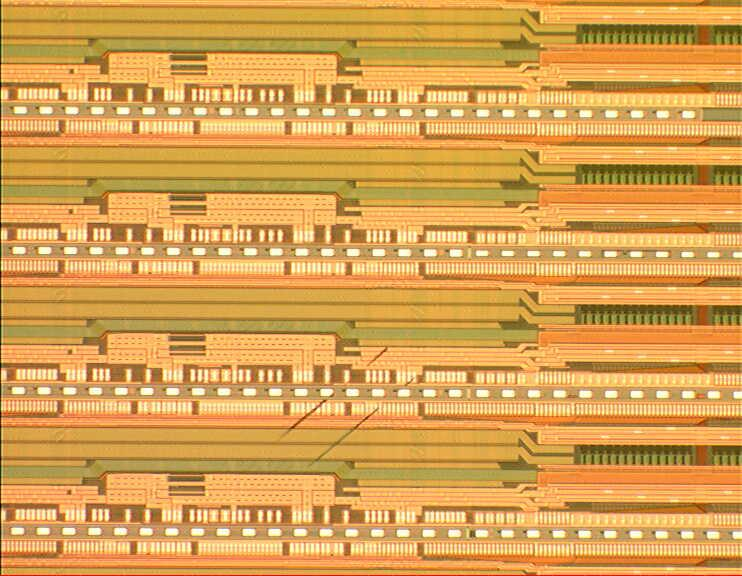SCRATCH: (268, 343, 425, 468)
